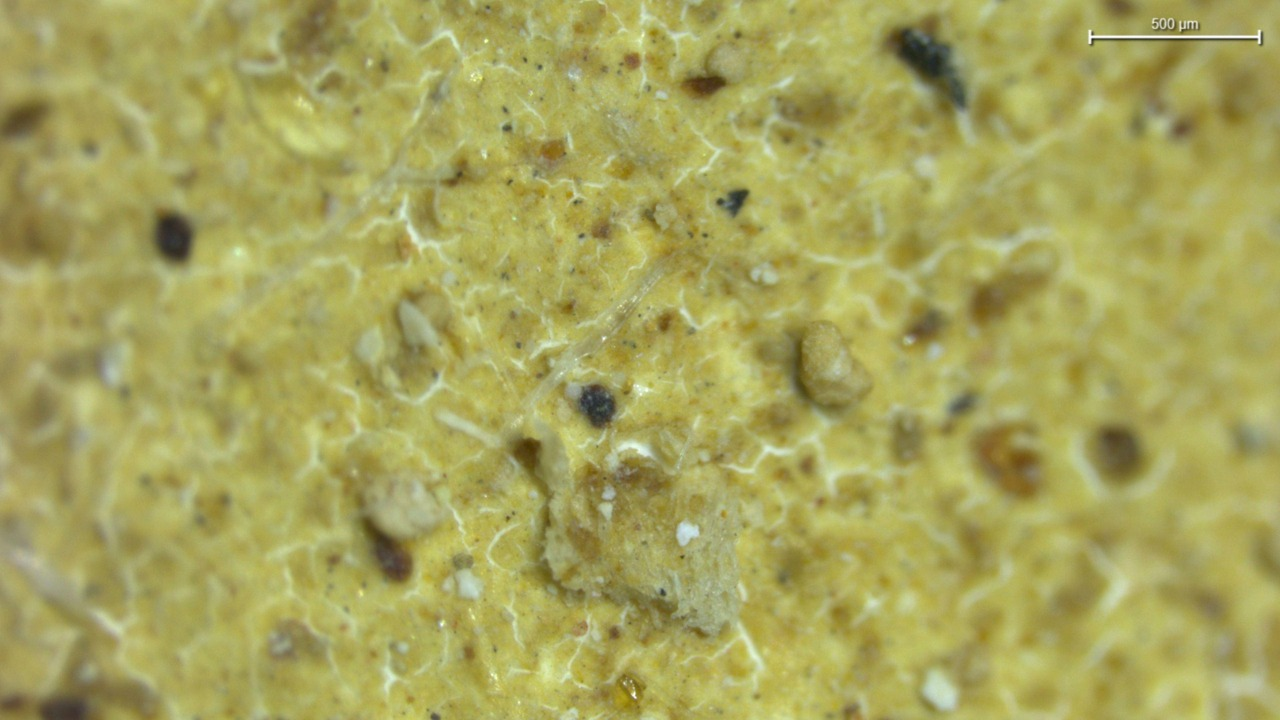microplastic_fragment: (535, 449, 743, 635), (797, 323, 872, 407)
